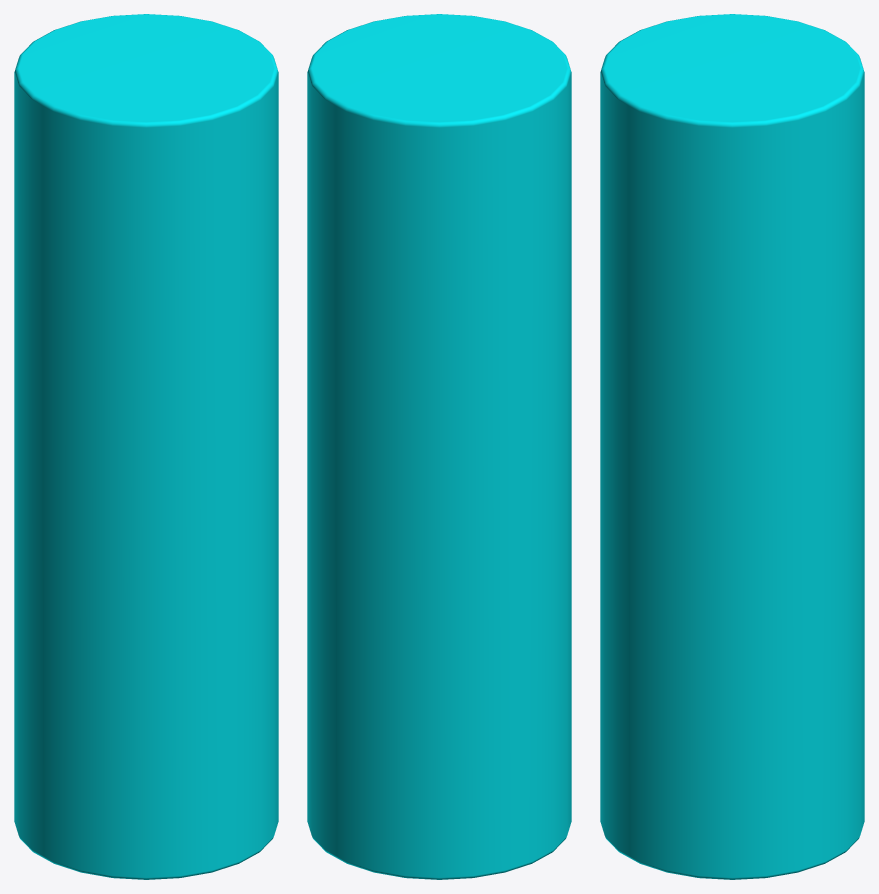
The model's file is interior_fire_suppression_bottle.glb.
The picture shows the model from 3 angles, left to right: view 1: azimuth 30°, elevation 25°; view 2: azimuth 150°, elevation 25°; view 3: azimuth 270°, elevation 25°; orthographic projection.
Visible parts, largest first — view 1: INTERIOR_Fire_Suppression_Bottle; view 2: INTERIOR_Fire_Suppression_Bottle; view 3: INTERIOR_Fire_Suppression_Bottle.
Part boxes in pixels (x1,y1,x2,y2): INTERIOR_Fire_Suppression_Bottle: [14, 14, 278, 879]; INTERIOR_Fire_Suppression_Bottle: [307, 14, 571, 879]; INTERIOR_Fire_Suppression_Bottle: [600, 14, 864, 879].
Bounding box in the file's own units: 0.12 × 0.38 × 0.12.
